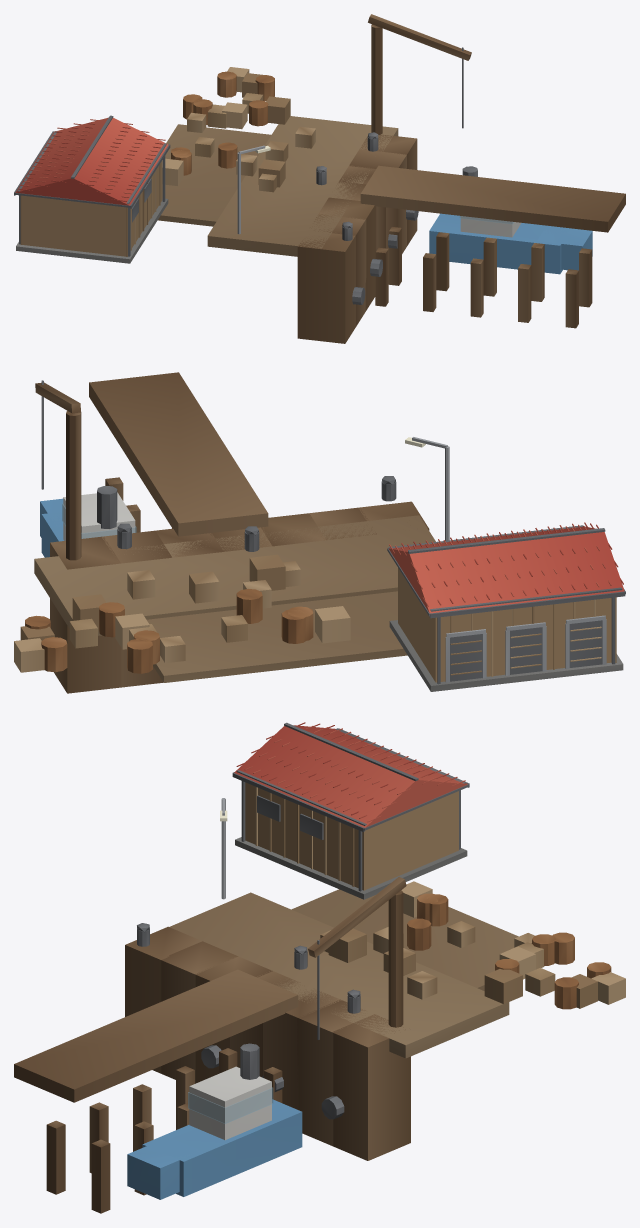
File: Port_P1.fbx
The picture shows the model from 3 angles, top to bottom: view 1: azimuth 30°, elevation 25°; view 2: azimuth 150°, elevation 25°; view 3: azimuth 270°, elevation 25°; orthographic projection. The views are drawn at different scales.
Visible parts, largest first — view 1: Port.Pier0, Port.Apron, Port.Shed, Port.QuayWall, Port.Crates, Port.Boat, Port.Derrick, Port.Lamp0; view 2: Port.Shed, Port.Apron, Port.Pier0, Port.Crates, Port.QuayWall, Port.Boat, Port.Derrick, Port.Lamp0; view 3: Port.Shed, Port.QuayWall, Port.Apron, Port.Pier0, Port.Boat, Port.Crates, Port.Derrick.
Part boxes in pixels (<box>): Port.Pier0: <box>360,165,625,328</box>; Port.Apron: <box>158,116,398,256</box>; Port.Shed: <box>14,115,170,263</box>; Port.QuayWall: <box>297,134,418,343</box>; Port.Crates: <box>162,67,315,192</box>; Port.Boat: <box>429,166,592,274</box>; Port.Derrick: <box>368,14,471,134</box>; Port.Lamp0: <box>237,145,270,234</box>; Port.Shed: <box>387,522,625,691</box>; Port.Apron: <box>34,515,435,682</box>; Port.Pier0: <box>89,372,268,536</box>; Port.Crates: <box>14,554,350,673</box>; Port.QuayWall: <box>50,501,429,693</box>; Port.Boat: <box>40,486,136,557</box>; Port.Derrick: <box>35,380,81,560</box>; Port.Lamp0: <box>405,437,449,540</box>; Port.Shed: <box>232,722,469,899</box>; Port.QuayWall: <box>125,926,410,1160</box>; Port.Apron: <box>169,889,544,1058</box>; Port.Pier0: <box>14,969,298,1213</box>; Port.Boat: <box>127,1043,302,1199</box>; Port.Crates: <box>320,881,625,1009</box>; Port.Derrick: <box>308,877,406,1039</box>.
Size of the model in its own units: 5933 by 2495 by 5025.
